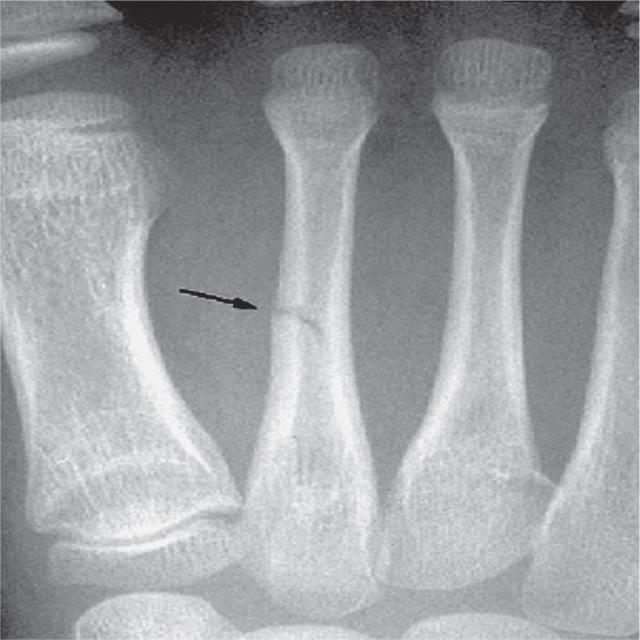bone: (250, 278, 364, 370)
